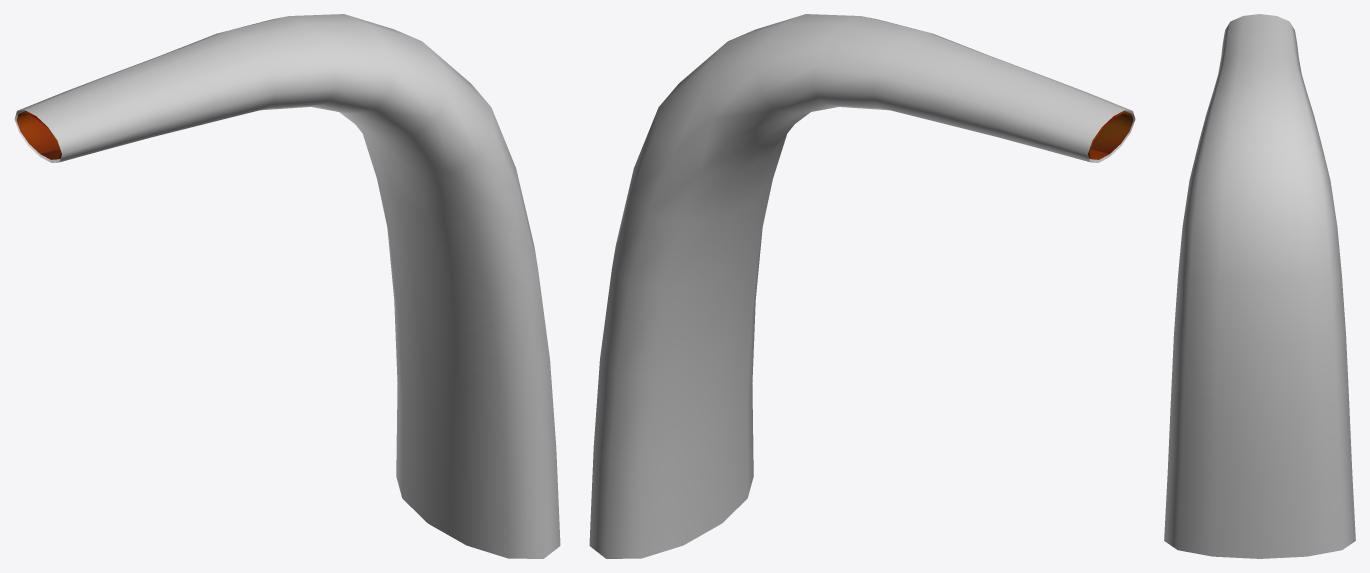
File: SM_Fountain_Water.fbx
The picture shows the model from 3 angles, left to right: view 1: azimuth 30°, elevation 25°; view 2: azimuth 150°, elevation 25°; view 3: azimuth 270°, elevation 25°; orthographic projection. The views are drawn at different scales.
Parts seen in each view (by area): view 1: SM_Fountain_Water_LOD0; view 2: SM_Fountain_Water_LOD0; view 3: SM_Fountain_Water_LOD0.
Boxes of the visible parts, x1,y1,x2,y2 form: SM_Fountain_Water_LOD0: [14, 14, 560, 558]; SM_Fountain_Water_LOD0: [589, 14, 1135, 558]; SM_Fountain_Water_LOD0: [1164, 14, 1355, 558].
Bounding box in the file's own units: 48.71 × 22.4 × 50.12.
2 materials, 1 textured.
